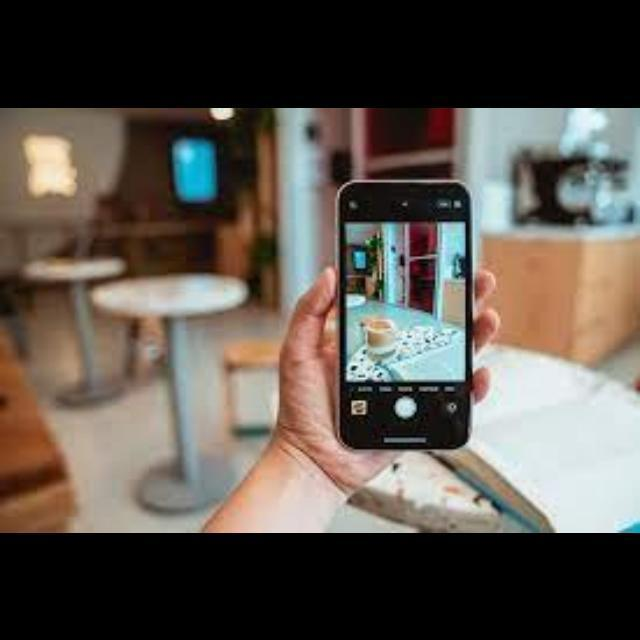PhoneUse: (334, 178, 472, 450)
